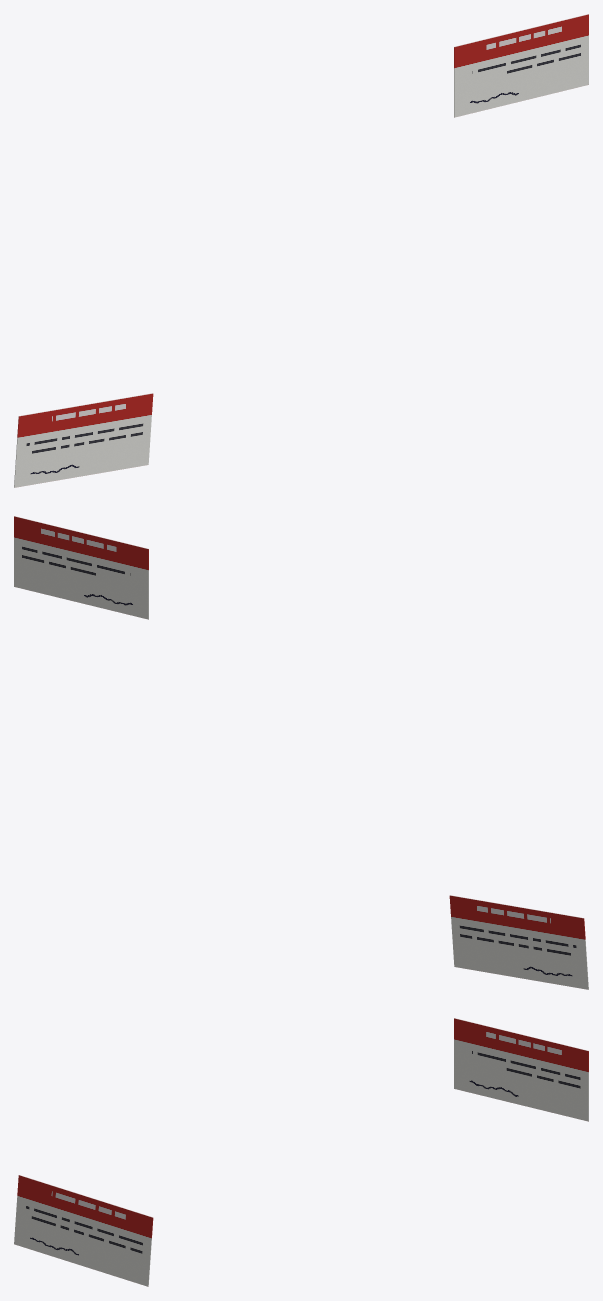
File: escena.casa.sello_embargo.fbx
The picture shows the model from 3 angles, top to bottom: view 1: azimuth 30°, elevation 25°; view 2: azimuth 150°, elevation 25°; view 3: azimuth 330°, elevation 25°; orthographic projection.
Parts seen in each view (by area): view 1: Etiqueta de embargo.001, Etiqueta de embargo; view 2: Etiqueta de embargo.001, Etiqueta de embargo; view 3: Etiqueta de embargo.001, Etiqueta de embargo.
Boxes of the visible parts, box(x1,y1,x2,y2) form: Etiqueta de embargo.001: box(14, 393, 153, 487); Etiqueta de embargo: box(454, 14, 588, 117); Etiqueta de embargo.001: box(449, 895, 588, 989); Etiqueta de embargo: box(14, 516, 148, 619); Etiqueta de embargo.001: box(14, 1175, 153, 1286); Etiqueta de embargo: box(454, 1018, 588, 1121).
Bounding box in the file's own units: 0.8532 × 0.4869 × 0.0008.
2 materials, 2 textured.
